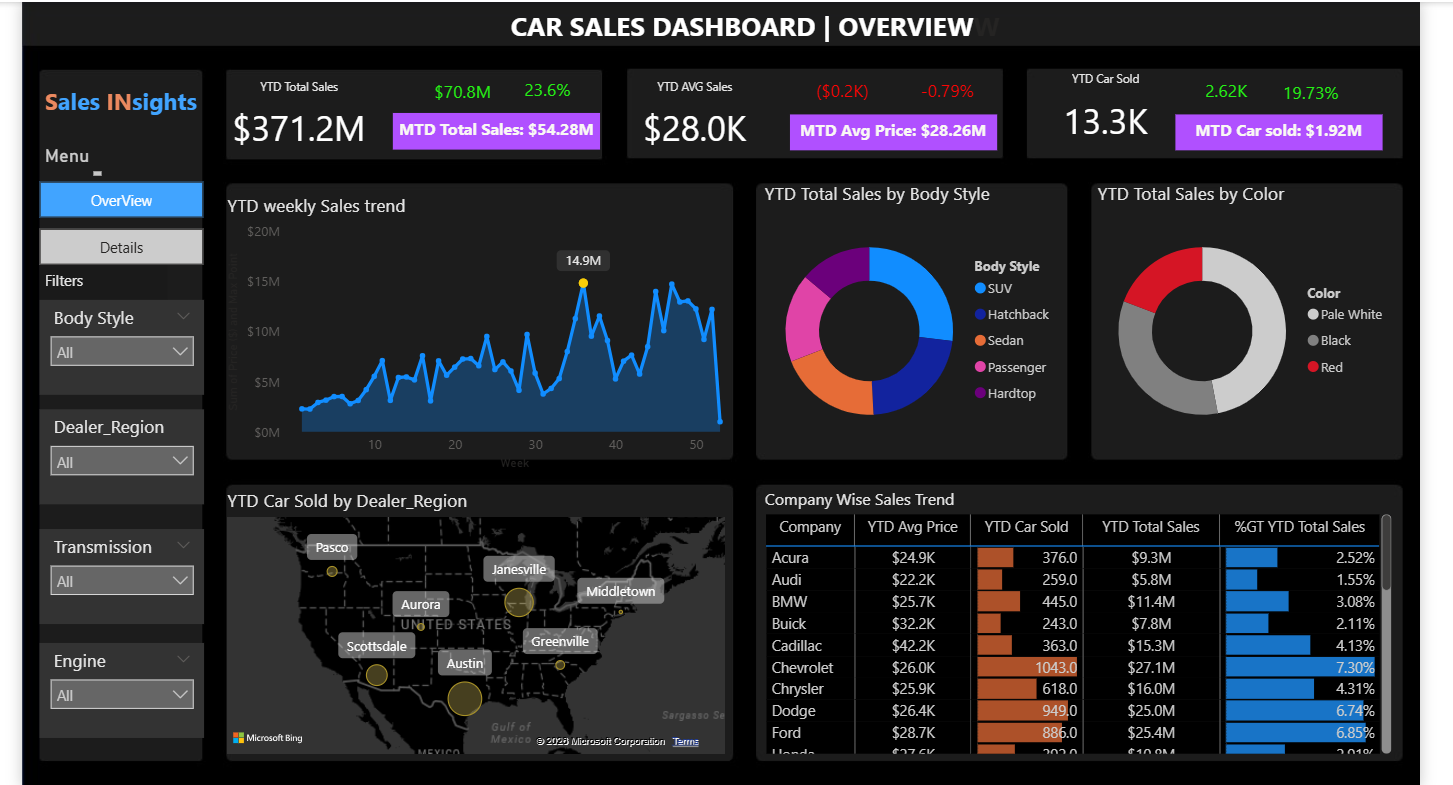

This screenshot's page, from the dashboard's own definition file:
{"tool":"powerbi","page":{"name":"OverView ","canvas":[1280,720],"ordinal":0},"visuals":[{"type":"card","title":"YTD Total Sales","fields":{"Values":["car_data.YTD Total Sales"]},"box":[166.7,70,173.3,78.3],"z":0},{"type":"card","fields":{"Values":["car_data.Sales Diffrence"]},"box":[355,65,96.7,36.7],"z":1000},{"type":"card","fields":{"Values":["car_data.YTY total Growth"]},"box":[433.3,68.3,96.7,28.3],"z":2000},{"type":"card","fields":{"Values":["car_data.MTD KPI"]},"box":[340,101.7,190,33.3],"z":3000},{"type":"card","title":"YTD AVG Sales","fields":{"Values":["car_data.YTD Avg Car Price"]},"box":[530,70,173.3,78.3],"z":4000},{"type":"card","fields":{"Values":["car_data.Avg Price Diff"]},"box":[703.3,60,96.7,46.7],"z":5000},{"type":"card","fields":{"Values":["car_data.YOY Avg Price Growth"]},"box":[798.9,60.2,96.3,46.6],"z":6000},{"type":"card","title":"MTD Avg Price","fields":{"Values":["car_data.MTD Avg Price KPI"]},"box":[702.6,102.3,189.6,33.1],"z":7000},{"type":"card","title":"YTD Car Sold","fields":{"Values":["car_data.YTD Car Sold"]},"box":[905.7,63.2,174.5,78.2],"z":8000},{"type":"card","fields":{"Values":["car_data.Diff b/w Car Sold"]},"box":[1054.7,60.2,96.3,46.6],"z":9000},{"type":"card","fields":{"Values":["car_data.YOY Car sold growth"]},"box":[1132.9,61.7,96.3,46.6],"z":10000},{"type":"card","title":"MTD Avg Price","fields":{"Values":["car_data.MTD Car Sold KPI"]},"box":[1056.2,102.3,189.6,33.1],"z":11000},{"type":"areaChart","title":"YTD weekly Sales trend","fields":{"Y":["Sum(car_data.Price ($))","car_data.Max Point"],"Category":["Calendar Table.Week"]},"box":[183.1,175.1,478.6,258],"z":12000},{"type":"donutChart","fields":{"Category":["car_data.Body Style"],"Y":["car_data.YTD Total Sales"]},"box":[675.5,164,279.8,252.8],"z":13000},{"type":"donutChart","fields":{"Y":["car_data.YTD Total Sales"],"Category":["car_data.Color"]},"box":[979.4,164,279.8,252.8],"z":14000},{"type":"map","fields":{"Category":["car_data.Dealer_Region"],"Size":["car_data.YTD Car Sold"]},"box":[183.5,445.3,466.4,248.2],"z":15000},{"type":"tableEx","title":"Company Wise Sales Trend","fields":{"Values":["car_data.Company","car_data.YTD Avg Price","car_data.YTD Car Sold","car_data.YTD Total Sales1","car_data.YTD Total Sales"]},"box":[675.5,445.3,583.7,248.2],"z":16000},{"type":"textbox","box":[442.5,0,466.6,65.5],"z":17000},{"type":"slicer","fields":{"Values":["car_data.Body Style"]},"box":[16,272.9,151,87.1],"z":18000},{"type":"slicer","fields":{"Values":["car_data.Dealer_Region"]},"box":[16,373.1,151,87.1],"z":19000},{"type":"slicer","fields":{"Values":["car_data.Transmission"]},"box":[16,482,151,87.1],"z":20000},{"type":"slicer","fields":{"Values":["car_data.Engine"]},"box":[16,586.5,151,87.1],"z":21000},{"type":"textbox","box":[16.5,240.7,117.4,31.6],"z":22000},{"type":"textbox","title":"Menu","box":[16.5,130.9,61.7,33.1],"z":23000},{"type":"pageNavigator","box":[16.5,164,150.5,76.7],"z":24000},{"type":"textbox","box":[16.5,70.7,150.5,45.1],"z":25000}]}

Visuals, with their boxes on the page's 1280x720 design canvas (x1, y1, x2, y2). These are canvas units, not pixel positions in the 1453x785 screenshot, which may show the page scaled, cropped or inside an application window:
"YTD Total Sales" card: [167, 70, 340, 148]
card - car_data.Sales Diffrence: [355, 65, 452, 102]
card - car_data.YTY total Growth: [433, 68, 530, 97]
card - car_data.MTD KPI: [340, 102, 530, 135]
"YTD AVG Sales" card: [530, 70, 703, 148]
card - car_data.Avg Price Diff: [703, 60, 800, 107]
card - car_data.YOY Avg Price Growth: [799, 60, 895, 107]
"MTD Avg Price" card: [703, 102, 892, 135]
"YTD Car Sold" card: [906, 63, 1080, 141]
card - car_data.Diff b/w Car Sold: [1055, 60, 1151, 107]
card - car_data.YOY Car sold growth: [1133, 62, 1229, 108]
"MTD Avg Price" card: [1056, 102, 1246, 135]
"YTD weekly Sales trend" areaChart: [183, 175, 662, 433]
donutChart - car_data.Body Style x car_data.YTD Total Sales: [676, 164, 955, 417]
donutChart - car_data.YTD Total Sales x car_data.Color: [979, 164, 1259, 417]
map - car_data.Dealer_Region x car_data.YTD Car Sold: [184, 445, 650, 694]
"Company Wise Sales Trend" tableEx: [676, 445, 1259, 694]
textbox: [442, 0, 909, 66]
slicer - car_data.Body Style: [16, 273, 167, 360]
slicer - car_data.Dealer_Region: [16, 373, 167, 460]
slicer - car_data.Transmission: [16, 482, 167, 569]
slicer - car_data.Engine: [16, 586, 167, 674]
textbox: [16, 241, 134, 272]
"Menu" textbox: [16, 131, 78, 164]
pageNavigator: [16, 164, 167, 241]
textbox: [16, 71, 167, 116]
